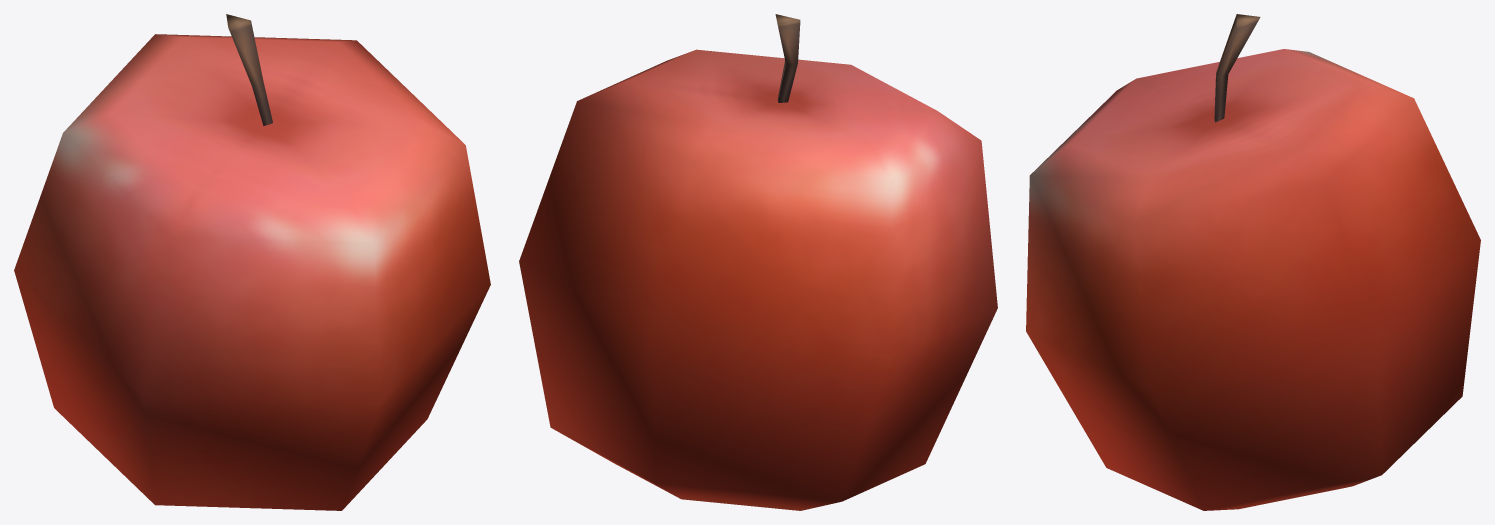
Rendered from map_7201_xwj_06.FBX.
The picture shows the model from 3 angles, left to right: view 1: azimuth 30°, elevation 25°; view 2: azimuth 150°, elevation 25°; view 3: azimuth 270°, elevation 25°; orthographic projection. The views are drawn at different scales.
Visible parts, largest first — view 1: map_7201_xwj_06; view 2: map_7201_xwj_06; view 3: map_7201_xwj_06.
Boxes of the visible parts, bbox=[...] form: map_7201_xwj_06: bbox=[14, 14, 490, 510]; map_7201_xwj_06: bbox=[519, 14, 997, 510]; map_7201_xwj_06: bbox=[1026, 14, 1480, 510].
Size of the model in its own units: 0.1427 by 0.1705 by 0.1565.
